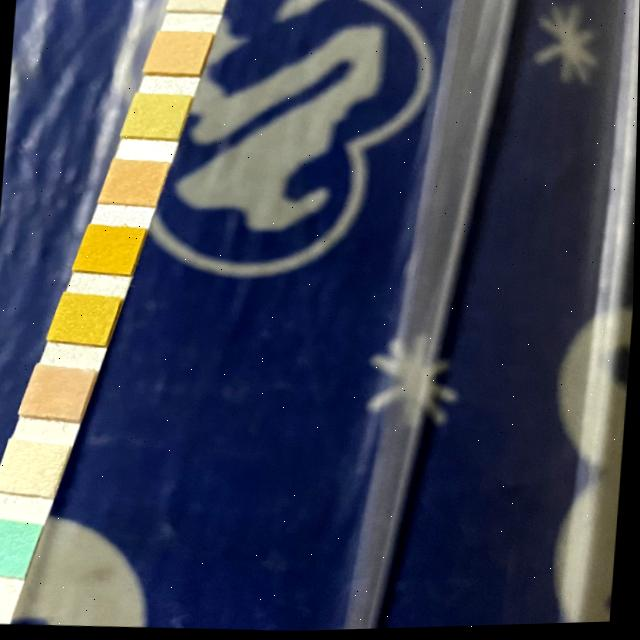Bilirubin: (7, 444, 58, 494)
Blood: (89, 228, 136, 273)
Glucose: (0, 524, 32, 574)
Ketone: (33, 369, 86, 417)
Nitrite: (178, 0, 223, 11)
Protein: (132, 95, 179, 138)
SpGravity: (60, 297, 111, 343)
Urobilinogen: (156, 33, 203, 75)
pH: (109, 162, 160, 205)
